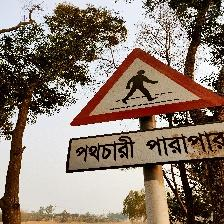Pedestrian-crossing: (67, 47, 224, 174)
